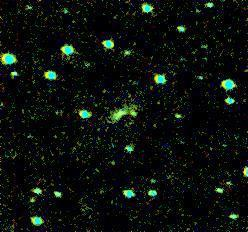star: (19, 187, 49, 217)
